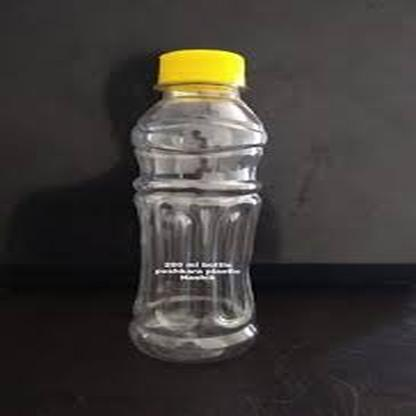plastic bottle: (128, 48, 260, 362)
